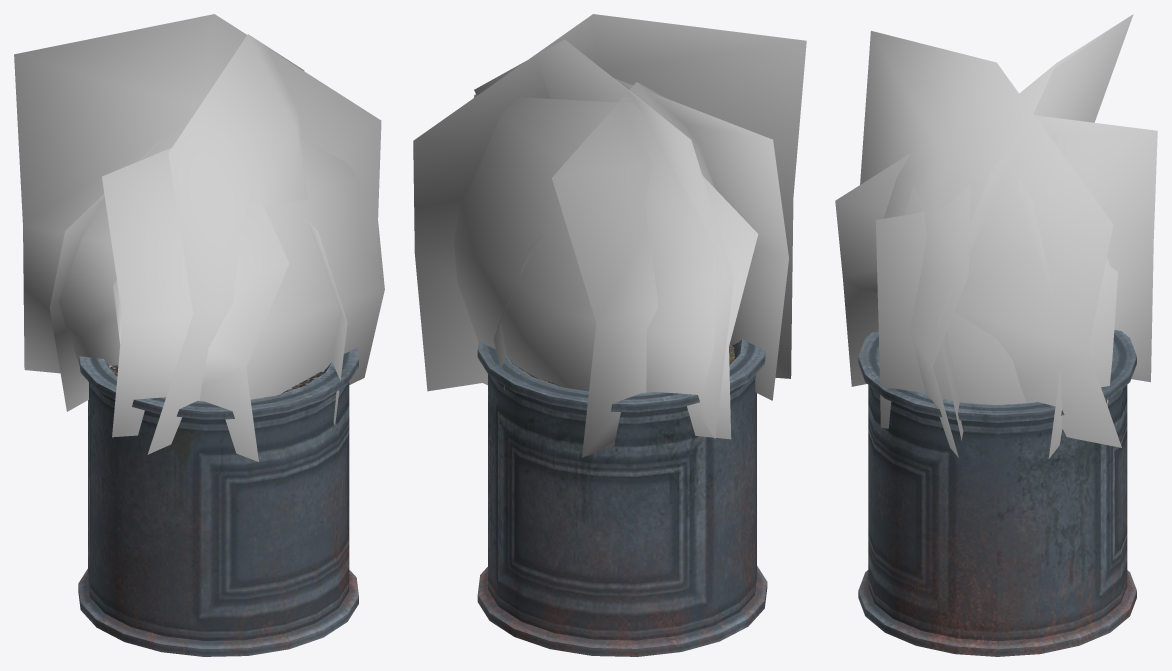
File: Flower_Pot_03.fbx
3 renders of one model, left to right at view 1: azimuth 30°, elevation 25°; view 2: azimuth 150°, elevation 25°; view 3: azimuth 270°, elevation 25°, orthographic. The views are drawn at different scales.
Parts seen in each view (by area): view 1: Flower_Pot_03_LOD0; view 2: Flower_Pot_03_LOD0; view 3: Flower_Pot_03_LOD0.
Boxes of the visible parts, bbox=[...] form: Flower_Pot_03_LOD0: bbox=[14, 14, 384, 656]; Flower_Pot_03_LOD0: bbox=[413, 14, 806, 656]; Flower_Pot_03_LOD0: bbox=[835, 14, 1157, 656].
Size of what is drawn, in the model's own units: 51.45 by 89.06 by 47.38.
